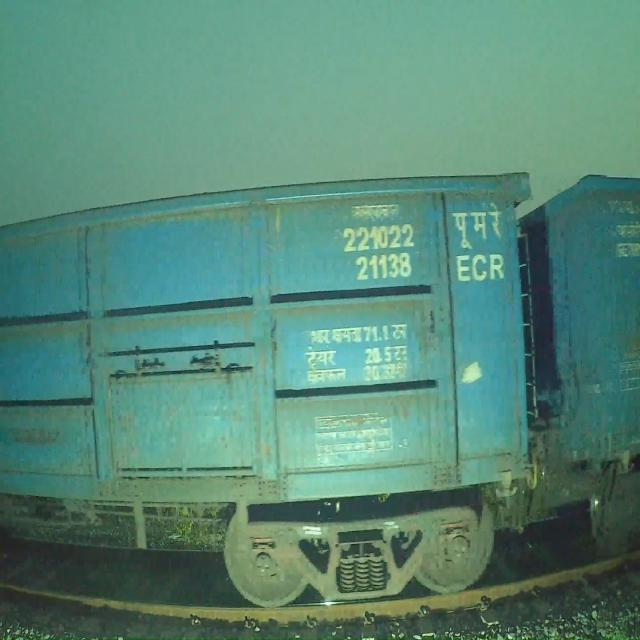WAgon-uic: (0, 170, 532, 607), (446, 176, 640, 552)
uic: (344, 224, 416, 285)
